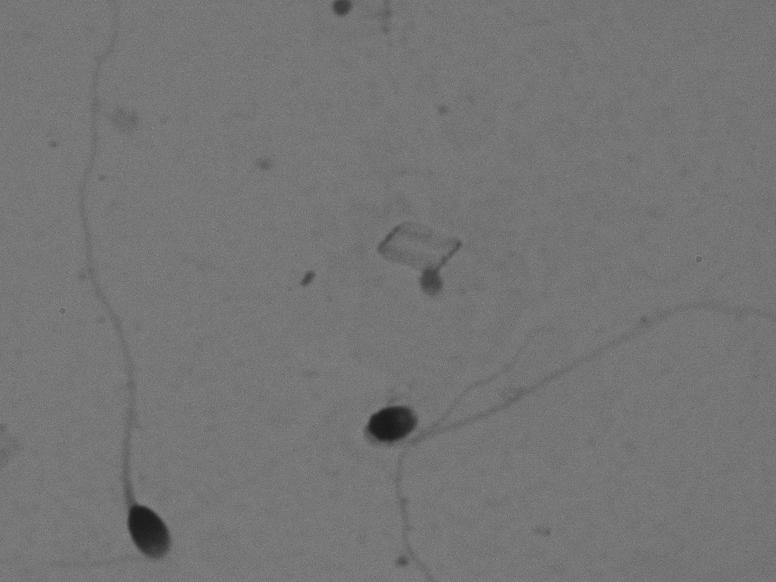Abnormal: (328, 266, 754, 467)
Normal: (62, 9, 194, 570)
